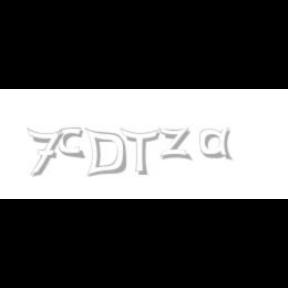7: (26, 128, 64, 178)
D: (83, 128, 126, 178)
T: (120, 128, 160, 176)
a: (199, 128, 236, 160)
c: (58, 128, 86, 160)
z: (158, 128, 194, 160)
